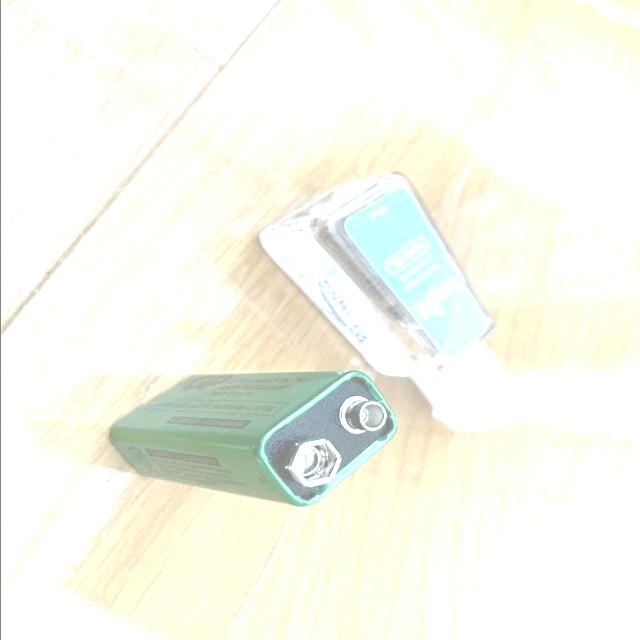9V: (108, 370, 396, 507)
